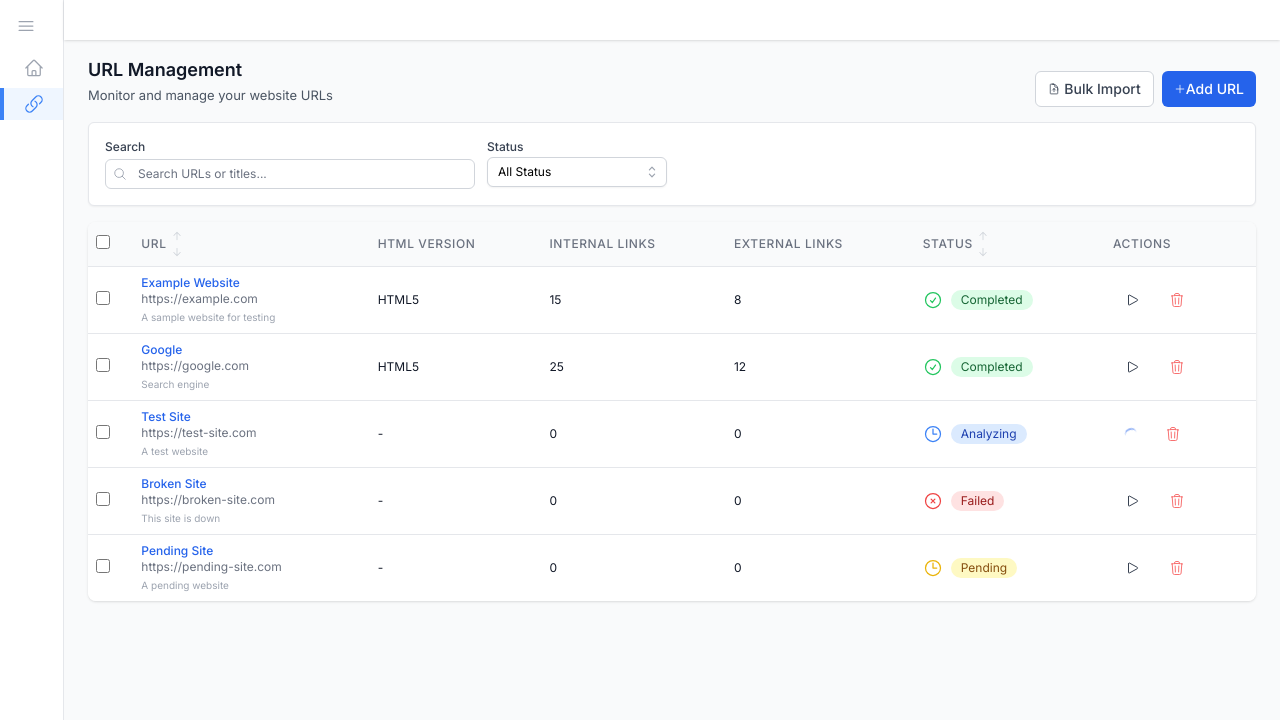
URL Management - Delete URL › should cancel deletion when clicking cancel button
Expected: the table with test id "url-table" is shown, 88,222 -> 1256,601
What coordinates should you click on to do the following:
click the button with test id "delete-url-button"
I would click on:
 (1177, 300)
Its box is 1157,282 -> 1197,318.
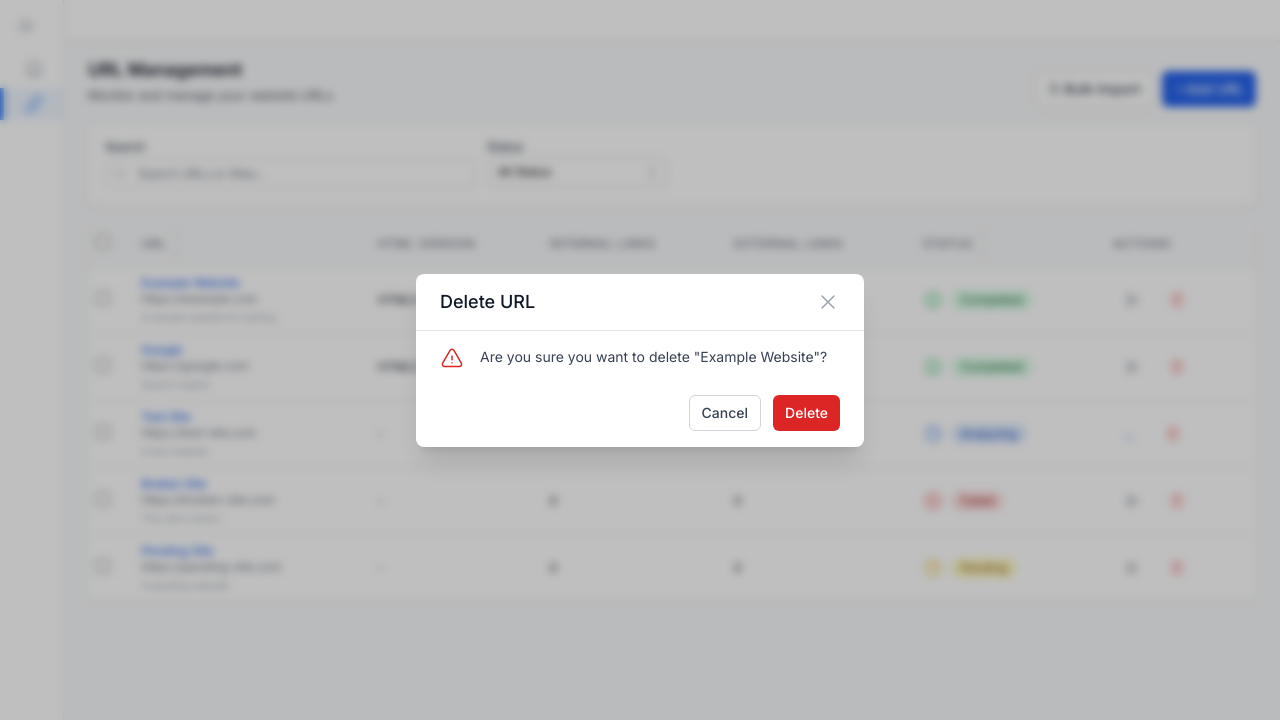
Result: the element with test id "confirmation-dialog" is shown at 416,274 -> 864,447
What coordinates should you click on to do the following:
click the button with test id "cancel-button"
I would click on:
 (726, 413)
Its box is 689,395 -> 762,431.
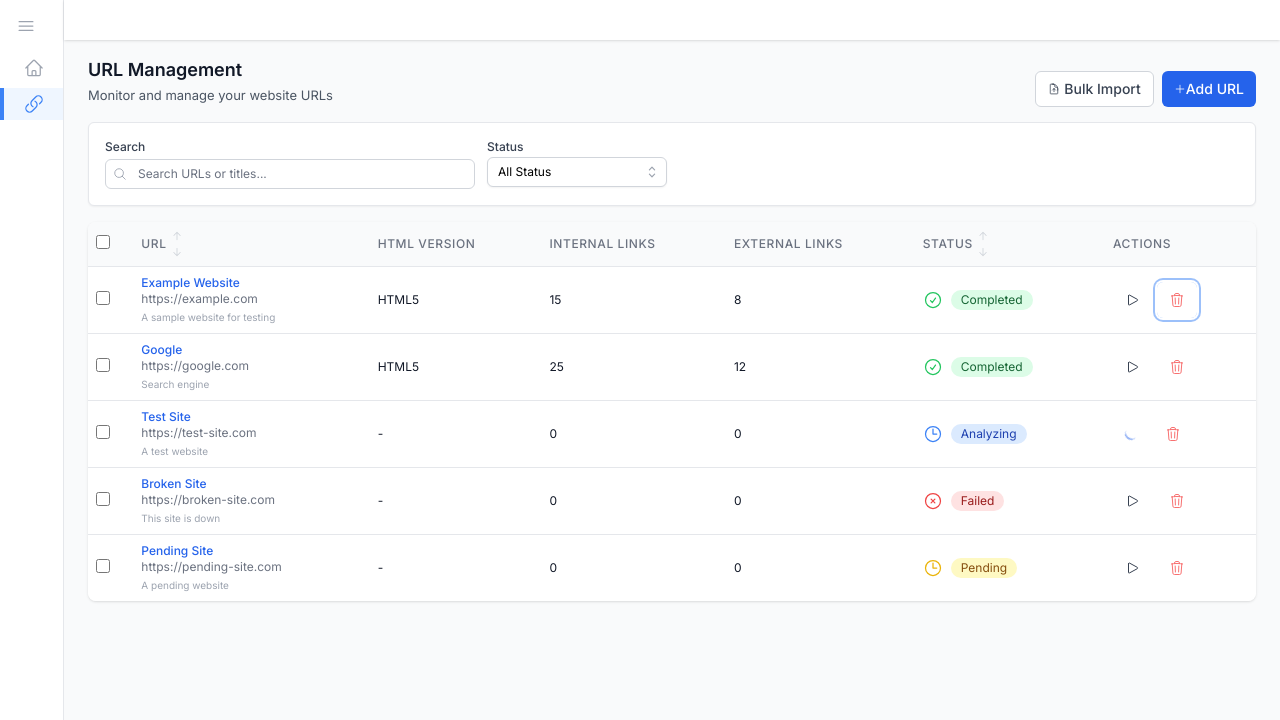
Expected: the number of rows with test id "url-row" is 5, 88,266 -> 1256,333; 88,333 -> 1256,400; 88,400 -> 1256,467; 88,467 -> 1256,534; 88,534 -> 1256,600
Result: the element with test id "confirmation-dialog" is gone
